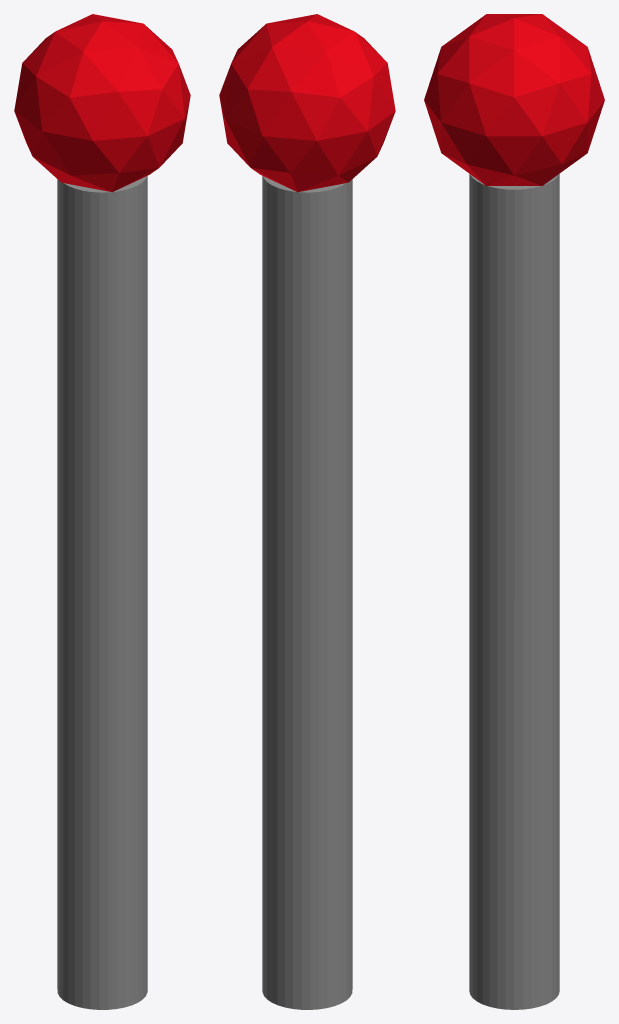
The model's file is test_rod.fbx.
3 views of the same model, side by side, from view 1: azimuth 30°, elevation 25°; view 2: azimuth 150°, elevation 25°; view 3: azimuth 270°, elevation 25° (orthographic).
Visible parts, largest first — view 1: Cylinder, Icosphere; view 2: Cylinder, Icosphere; view 3: Cylinder, Icosphere.
Boxes of the visible parts, bbox=[...] form: Cylinder: bbox=[57, 176, 147, 1009]; Icosphere: bbox=[14, 14, 190, 192]; Cylinder: bbox=[262, 176, 352, 1009]; Icosphere: bbox=[219, 14, 395, 192]; Cylinder: bbox=[469, 174, 559, 1009]; Icosphere: bbox=[424, 14, 604, 185].
Bounding box in the file's own units: 0.3804 × 2.37 × 0.4.
